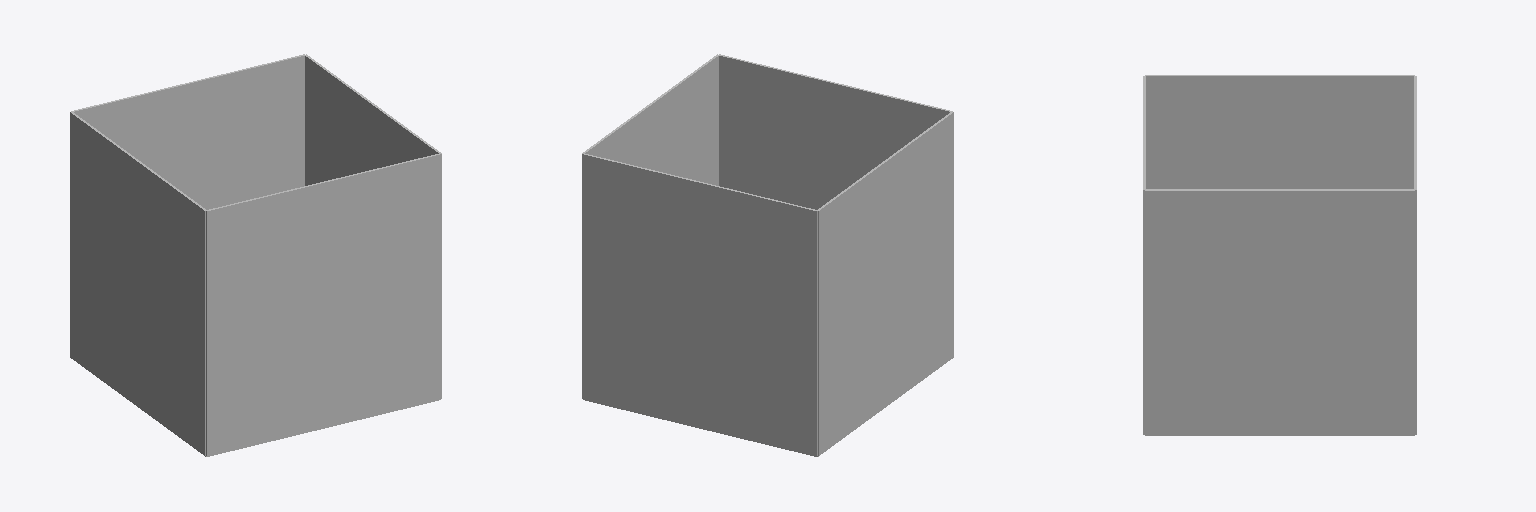
File: space.obj
3 views of the same model, side by side, from view 1: azimuth 30°, elevation 25°; view 2: azimuth 150°, elevation 25°; view 3: azimuth 270°, elevation 25° (orthographic).
Parts seen in each view (by area): view 1: Cube.003, Cube.002, Cube.004, Cube.001; view 2: Cube.004, Cube.002, Cube.003, Cube.001; view 3: Cube.001, Cube.002, Cube.003, Cube.004.
Boxes of the visible parts, x1,y1,x2,y2 form: Cube.003: [206, 153, 440, 456]; Cube.002: [70, 112, 207, 455]; Cube.004: [71, 54, 304, 209]; Cube.001: [305, 54, 441, 398]; Cube.004: [583, 153, 817, 456]; Cube.002: [816, 112, 953, 455]; Cube.003: [719, 54, 952, 209]; Cube.001: [582, 54, 718, 398]; Cube.001: [1145, 189, 1414, 435]; Cube.002: [1145, 75, 1414, 188]; Cube.003: [1143, 76, 1145, 434]; Cube.004: [1414, 76, 1416, 434].
Bounding box in the file's own units: 20.2 × 20.1 × 20.2.